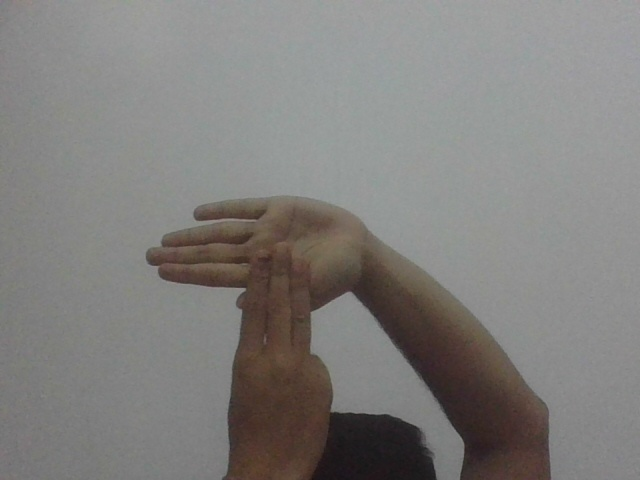M: (143, 195, 356, 383)
